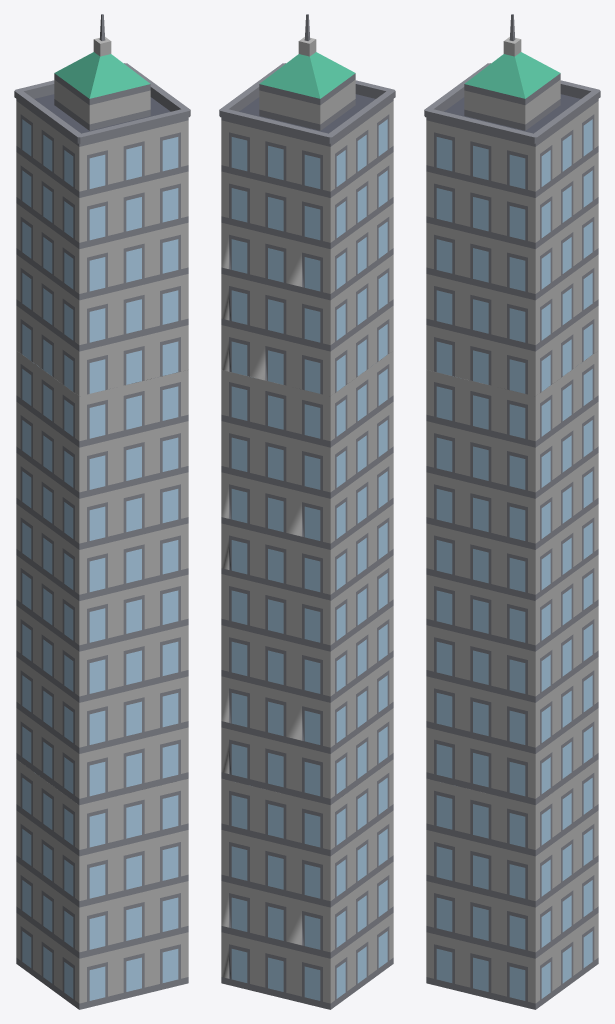
File: bull.fbx
The picture shows the model from 3 angles, left to right: view 1: azimuth 30°, elevation 25°; view 2: azimuth 150°, elevation 25°; view 3: azimuth 330°, elevation 25°; orthographic projection.
Visible parts, largest first — view 1: skyscraperE.002, skyscraperE.003, skyscraperE.004, skyscraperE.001; view 2: skyscraperE.002, skyscraperE.004, skyscraperE.001, skyscraperE.003; view 3: skyscraperE.002, skyscraperE.004, skyscraperE.003, skyscraperE.001.
Boxes of the visible parts, left/top/right/bottom form: skyscraperE.002: left=14, top=14, right=190, bottom=396; skyscraperE.003: left=16, top=350, right=188, bottom=600; skyscraperE.004: left=16, top=759, right=188, bottom=1009; skyscraperE.001: left=16, top=555, right=188, bottom=805; skyscraperE.002: left=219, top=14, right=395, bottom=396; skyscraperE.004: left=221, top=759, right=393, bottom=1009; skyscraperE.001: left=221, top=555, right=393, bottom=804; skyscraperE.003: left=221, top=350, right=393, bottom=600; skyscraperE.002: left=424, top=14, right=600, bottom=396; skyscraperE.004: left=426, top=759, right=598, bottom=1009; skyscraperE.003: left=426, top=350, right=598, bottom=600; skyscraperE.001: left=426, top=554, right=598, bottom=805.
Size of the model in its own units: 434 by 3522 by 434.
